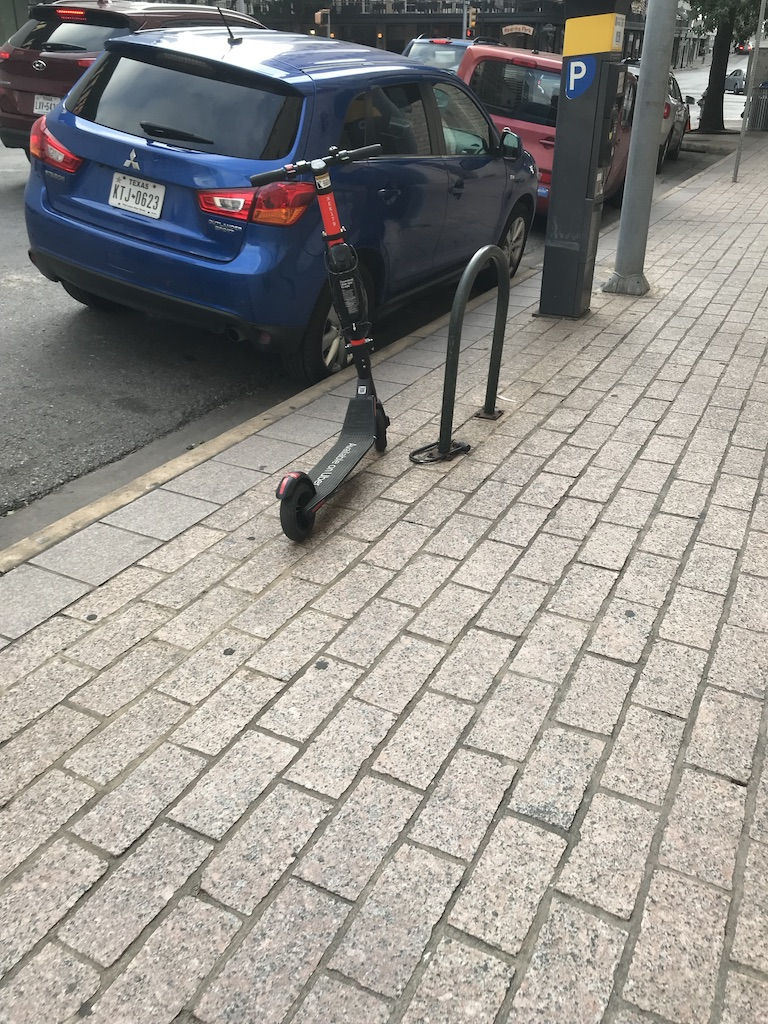scooter: (250, 142, 391, 544)
